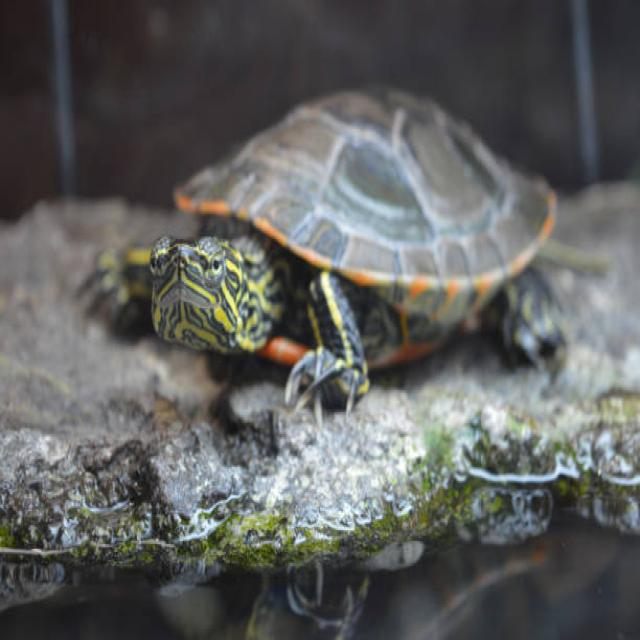terrapin: (167, 70, 559, 292), (138, 207, 277, 386), (282, 277, 383, 427), (470, 263, 578, 369), (75, 224, 159, 344)
